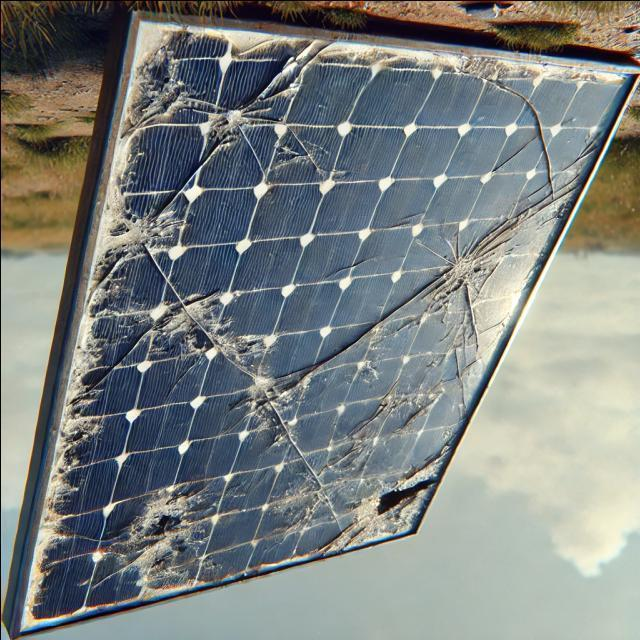Anomaly Solar Panel: (14, 16, 639, 634)
Structural Damage: (24, 24, 637, 625), (108, 494, 210, 580), (161, 290, 245, 388), (202, 83, 274, 180), (428, 237, 494, 328), (243, 362, 320, 436), (358, 467, 441, 529), (118, 210, 191, 258)
